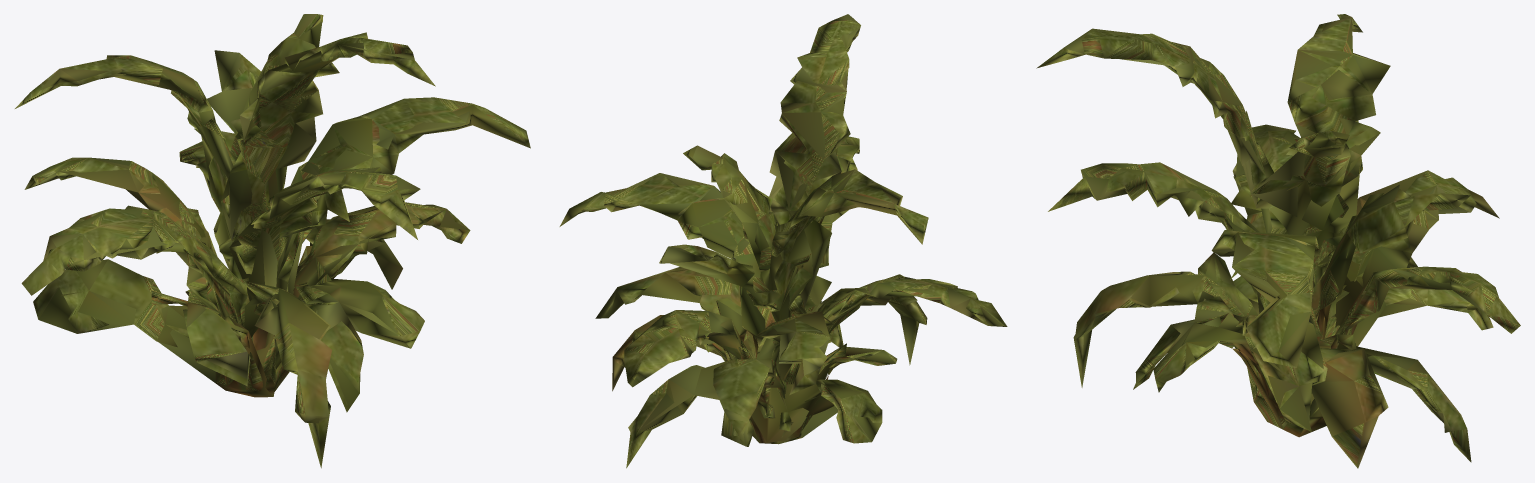
File: helechos.glb
3 renders of one model, left to right at view 1: azimuth 30°, elevation 25°; view 2: azimuth 150°, elevation 25°; view 3: azimuth 270°, elevation 25°, orthographic. The views are drawn at different scales.
Visible parts, largest first — view 1: cerca, medio, lejos; view 2: cerca, medio, lejos; view 3: cerca, medio, lejos.
Part boxes in pixels (x1=…): cerca: x1=15, y1=14, x2=530, y2=468; medio: x1=29, y1=14, x2=529, y2=423; lejos: x1=61, y1=45, x2=472, y2=388; cerca: x1=571, y1=16, x2=1007, y2=467; medio: x1=559, y1=14, x2=1006, y2=467; lejos: x1=590, y1=26, x2=969, y2=442; cerca: x1=1036, y1=14, x2=1520, y2=466; medio: x1=1063, y1=15, x2=1499, y2=468; lejos: x1=1093, y1=28, x2=1469, y2=431.
Size of the model in its own units: 0.8944 by 0.6994 by 0.7567.
2 materials, 1 textured.
